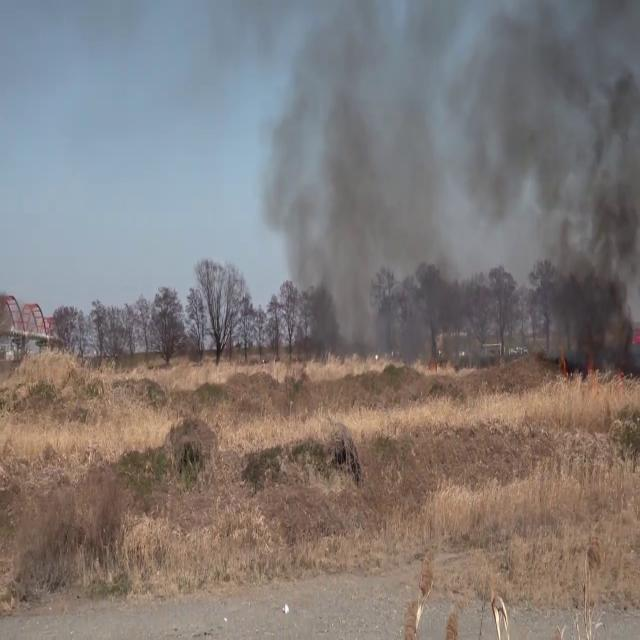Smoke: (260, 0, 640, 367)
